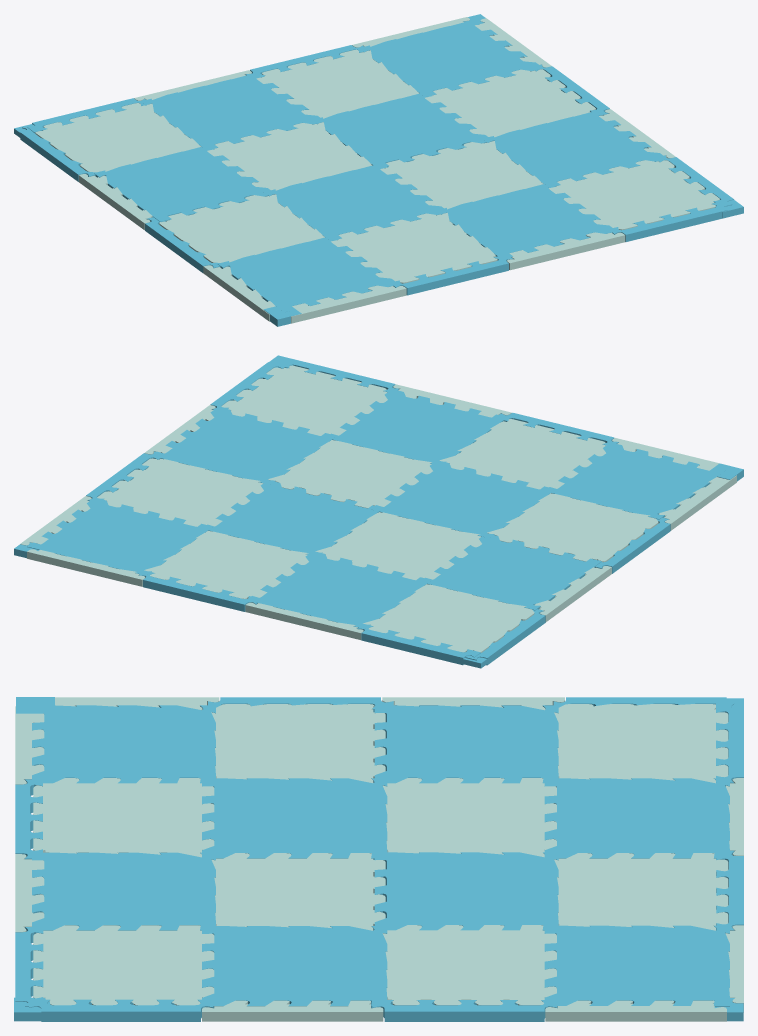
The model's file is puzzlemat (1).fbx.
The picture shows the model from 3 angles, top to bottom: view 1: azimuth 30°, elevation 25°; view 2: azimuth 150°, elevation 25°; view 3: azimuth 270°, elevation 25°; orthographic projection. The views are drawn at different scales.
Visible parts, largest first — view 1: mat; view 2: mat; view 3: mat.
Boxes of the visible parts, bbox=[...] form: mat: bbox=[14, 14, 743, 326]; mat: bbox=[14, 355, 743, 668]; mat: bbox=[14, 697, 743, 1021].
Bounding box in the file's own units: 3835 × 60.86 × 3756.
